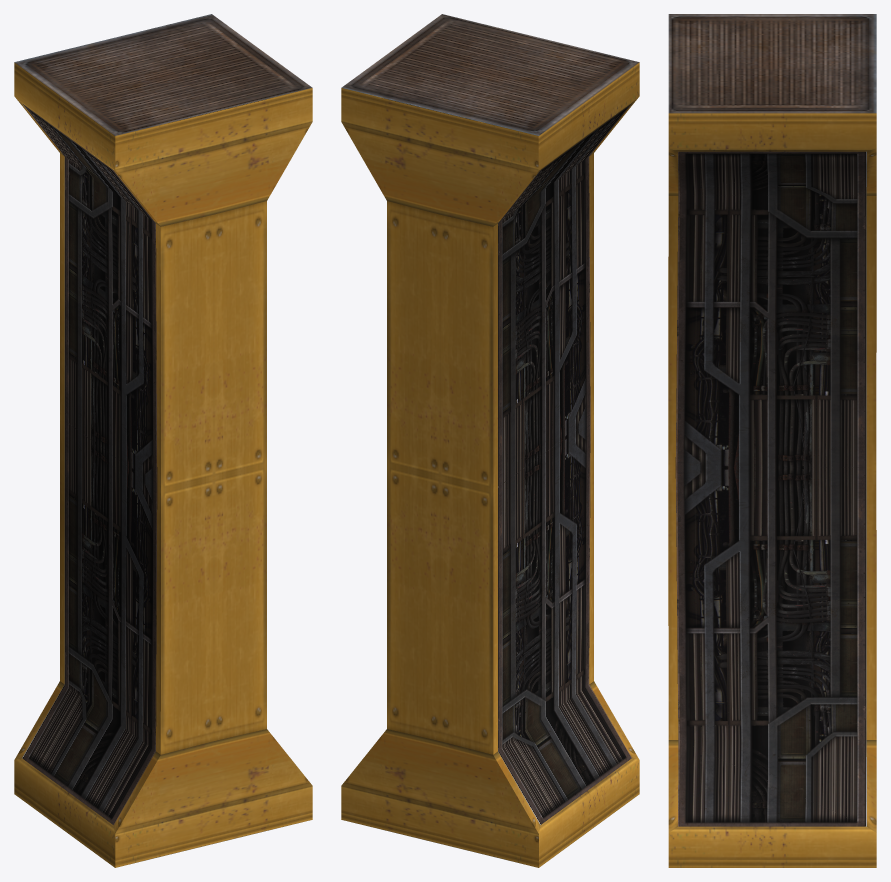
File: Pillar_10.fbx
3 views of the same model, side by side, from view 1: azimuth 30°, elevation 25°; view 2: azimuth 150°, elevation 25°; view 3: azimuth 270°, elevation 25° (orthographic). The views are drawn at different scales.
Visible parts, largest first — view 1: Pillar_10; view 2: Pillar_10; view 3: Pillar_10.
Part boxes in pixels (<box>): Pillar_10: <box>14,14,312,867</box>; Pillar_10: <box>341,14,639,867</box>; Pillar_10: <box>668,14,876,867</box>.
Size of the model in its own units: 113 by 400 by 100.
Materials: 1 (1 with a texture image).
